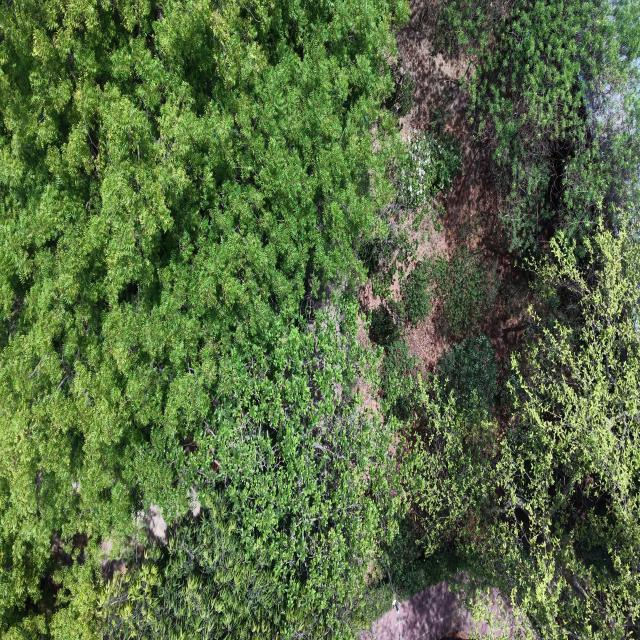DRY_AREA: (397, 0, 530, 367), (397, 0, 529, 368), (397, 0, 528, 362), (407, 156, 531, 367), (397, 0, 498, 259), (443, 142, 532, 367), (397, 0, 471, 138), (397, 0, 466, 140), (359, 582, 523, 639), (397, 2, 464, 140), (368, 582, 470, 639), (405, 210, 452, 274), (406, 216, 452, 274), (406, 317, 447, 370), (137, 504, 167, 546), (141, 504, 167, 545)
VEGETATION_TREE: (0, 0, 639, 639), (0, 0, 406, 638), (392, 3, 639, 638), (382, 214, 639, 638), (99, 304, 401, 638), (404, 223, 639, 638), (482, 219, 639, 637), (433, 0, 639, 250), (361, 131, 461, 306), (402, 247, 495, 338), (396, 132, 461, 209), (439, 334, 498, 410), (380, 339, 427, 419), (402, 259, 435, 322)
